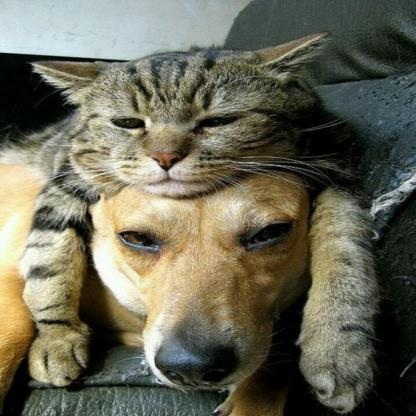cat: (23, 24, 385, 413), (84, 178, 296, 400)
